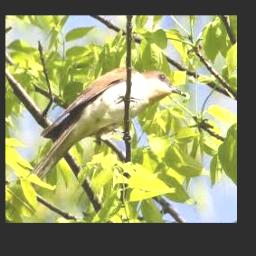Cuckoo: (25, 68, 186, 194)
